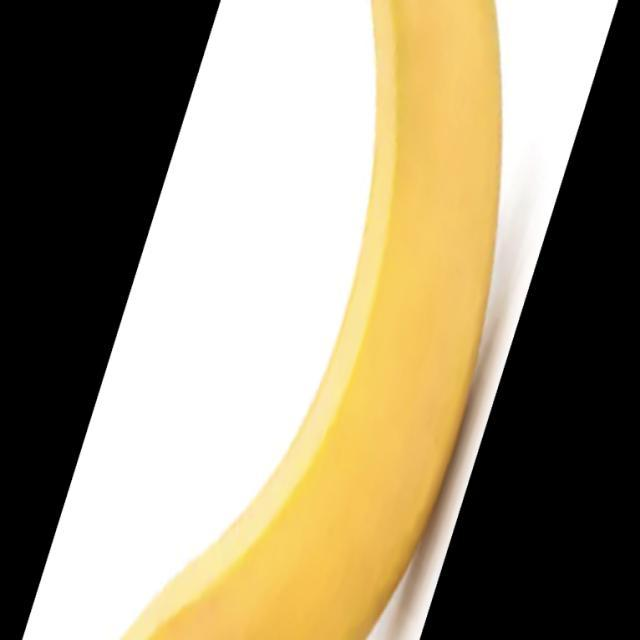Banana: (127, 2, 512, 640)
